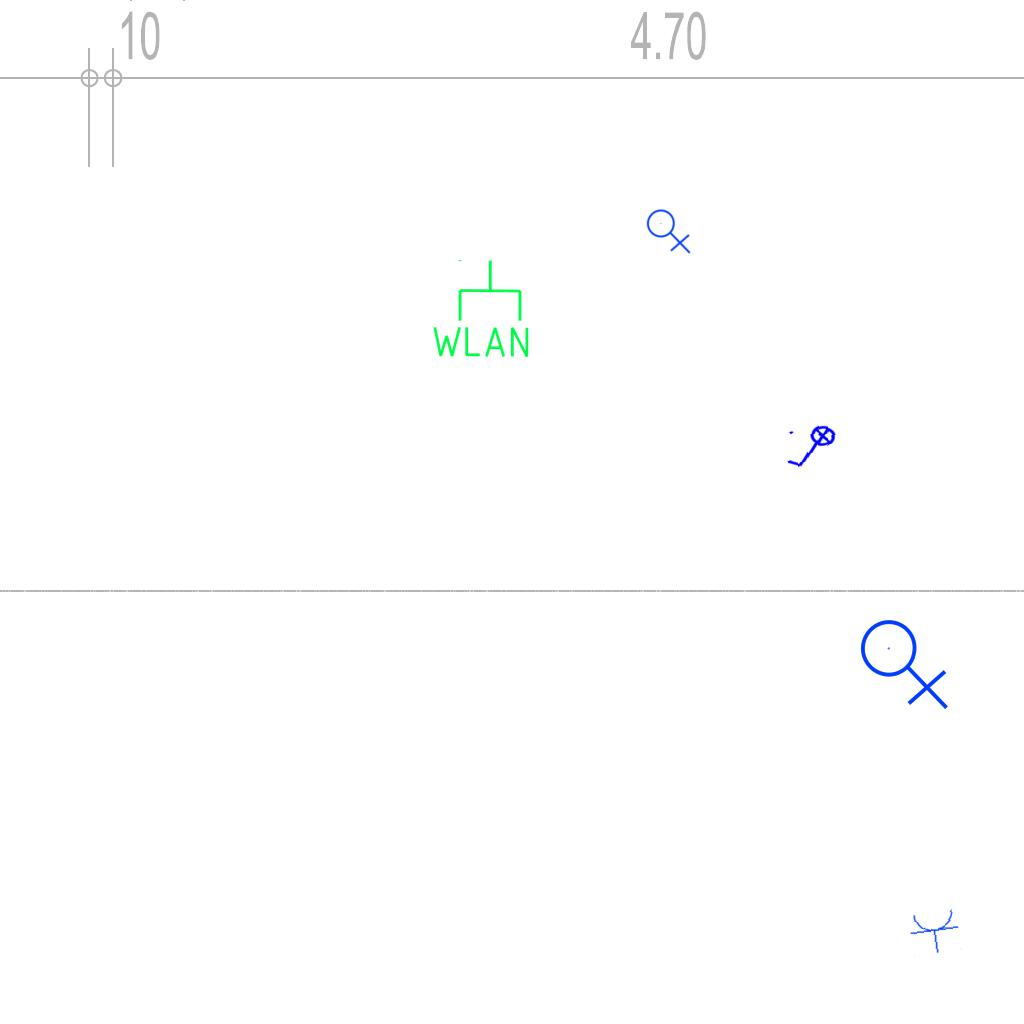Ausschalter_beleuchtet: (782, 421, 844, 475)
Elektroanschluss_allgemein_230V_Geraeteanschlussdose_230V: (859, 611, 953, 710), (646, 205, 693, 254)
Schukosteckdose_einfach: (907, 906, 963, 957)
WLAN: (428, 257, 533, 361)
